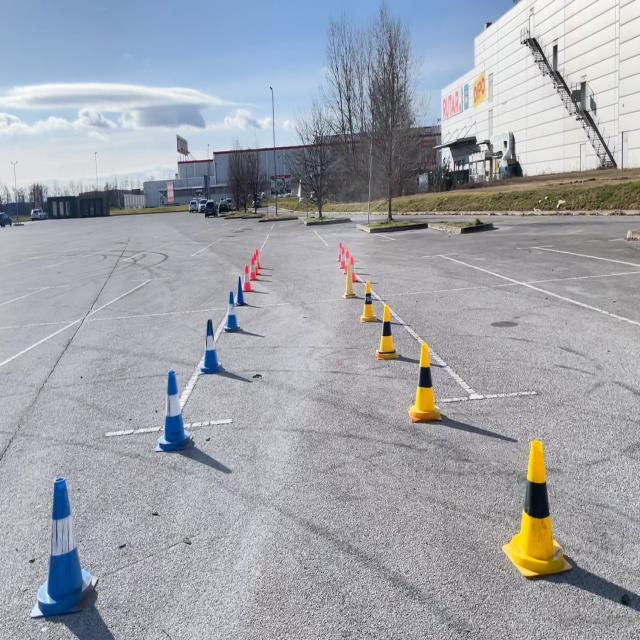blue_cone: (32, 474, 96, 618), (154, 366, 192, 452), (199, 316, 223, 374), (221, 289, 241, 333), (234, 275, 246, 308)
orange_cone: (242, 262, 253, 291), (338, 242, 347, 270), (252, 246, 261, 271)
yellow_cone: (502, 436, 570, 579), (407, 342, 442, 424), (374, 304, 399, 361), (361, 277, 377, 327), (342, 252, 356, 298)
